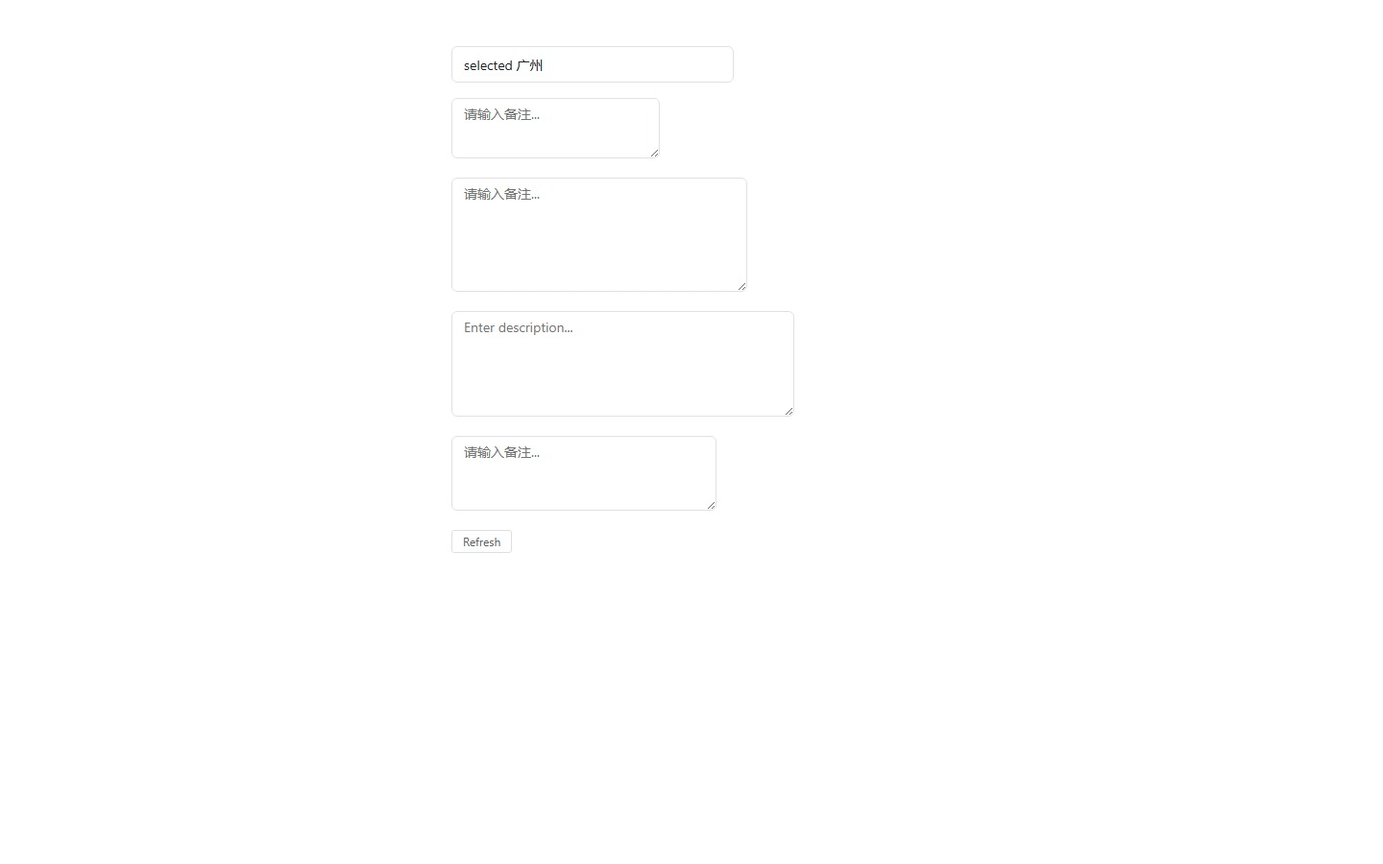button: (451, 530, 512, 553)
select: (451, 46, 734, 83)
textarea: (451, 311, 794, 417), (451, 178, 747, 292), (451, 436, 716, 511), (451, 98, 660, 158)
